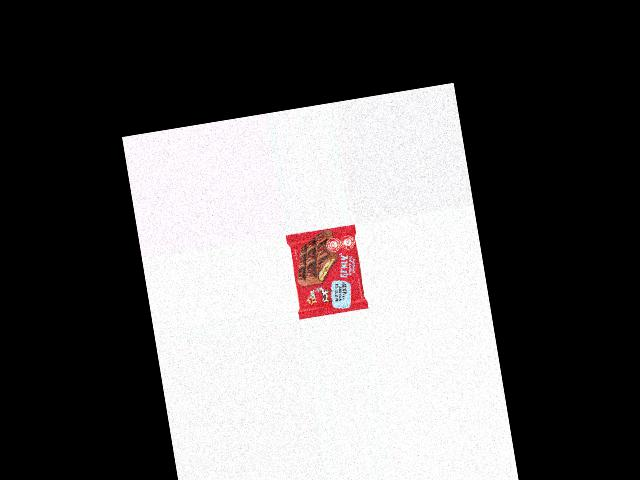chocolate: (286, 225, 368, 316)
